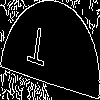T: (25, 25, 49, 76)
